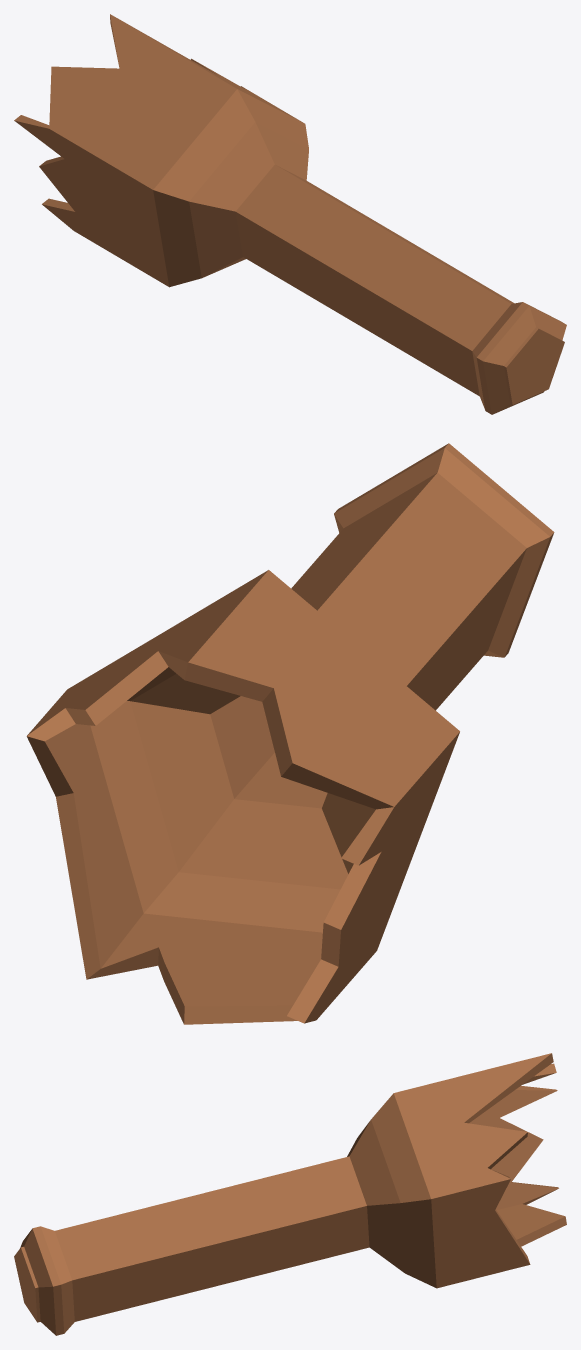
File: Bira 1.fbx
3 renders of one model, top to bottom at view 1: azimuth 30°, elevation 25°; view 2: azimuth 150°, elevation 25°; view 3: azimuth 270°, elevation 25°, orthographic. The views are drawn at different scales.
Parts seen in each view (by area): view 1: Circle.005; view 2: Circle.005; view 3: Circle.005.
Part boxes in pixels (x1,y1,x2,y2): Circle.005: (14, 14, 566, 414); Circle.005: (26, 443, 554, 1024); Circle.005: (14, 1053, 566, 1335).
Size of the model in its own units: 52.45 by 39.71 by 95.97.
